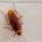cockroach: (6, 9, 23, 38)
